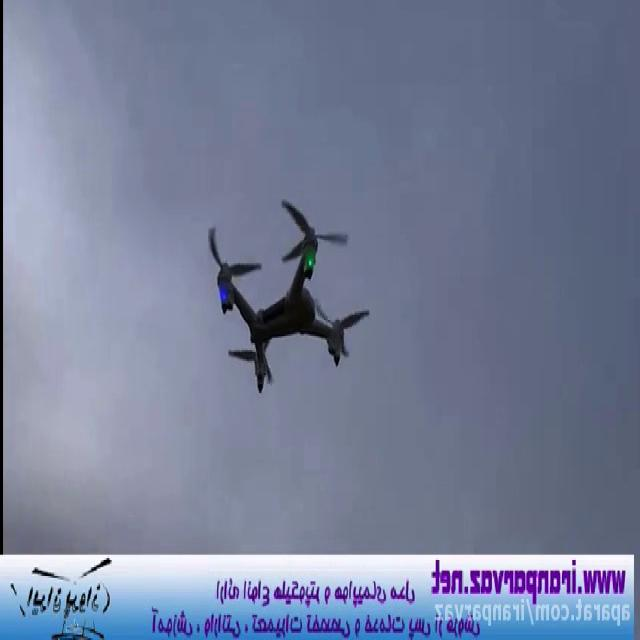drone: (206, 194, 373, 396)
